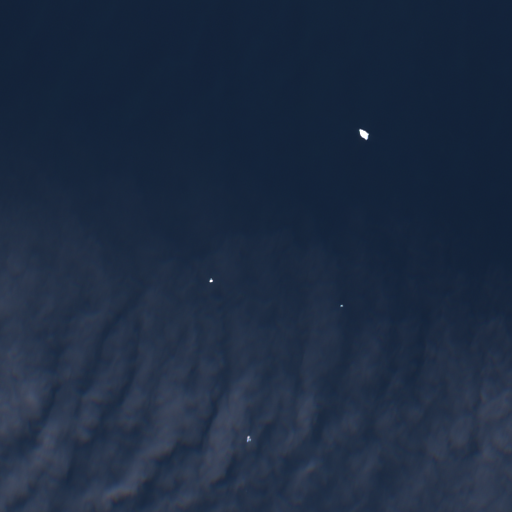Iceberg: (358, 129, 368, 139), (247, 435, 251, 442), (209, 278, 212, 282), (340, 304, 343, 306)
